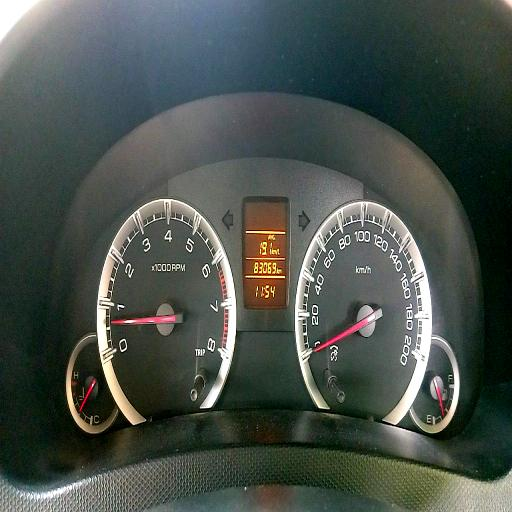tachometer: (98, 197, 236, 418)
